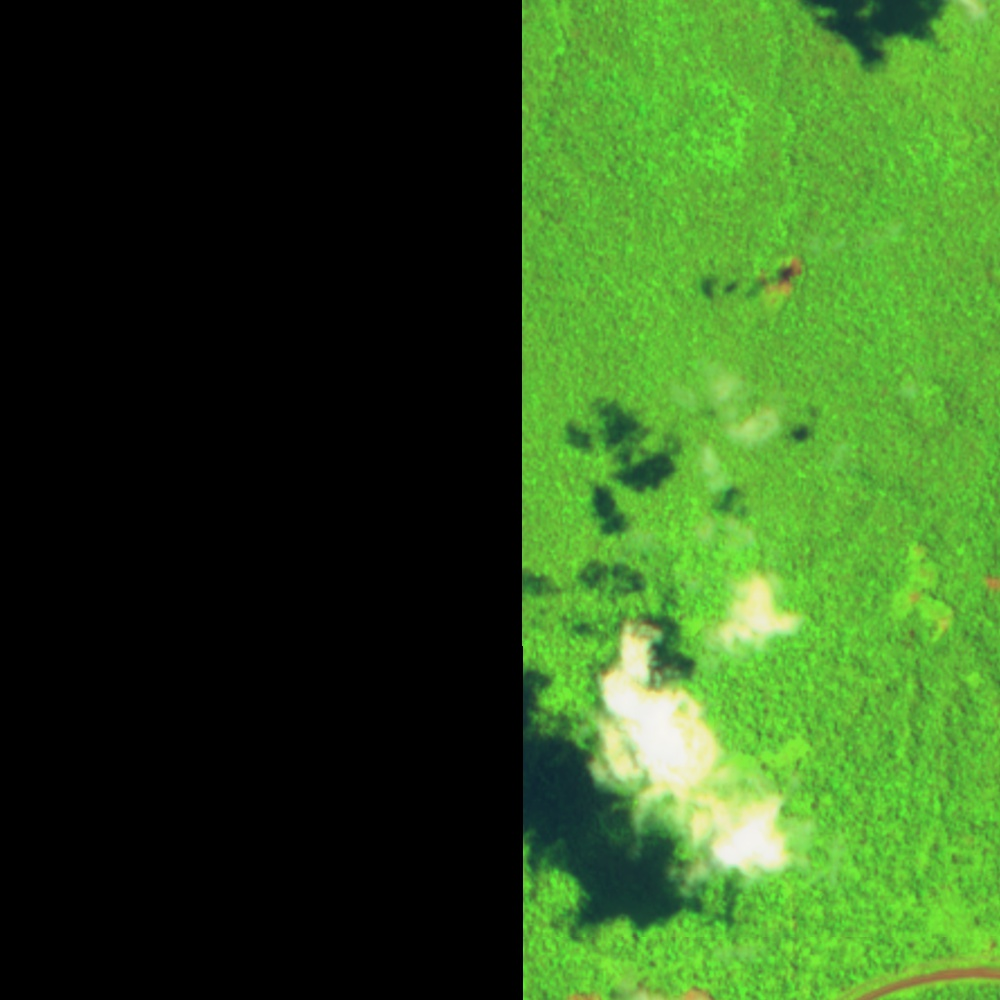legal: (894, 535, 964, 641), (757, 256, 808, 295), (985, 569, 1000, 590)
